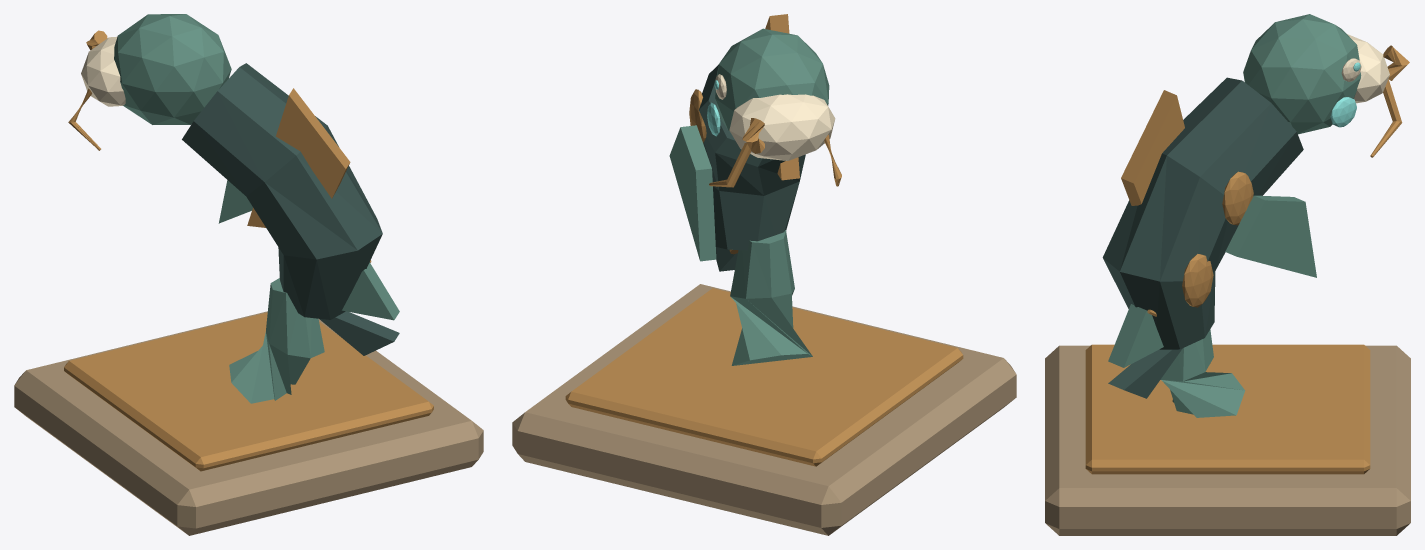
File: Tower_StormCarpL1.fbx
The picture shows the model from 3 angles, left to right: view 1: azimuth 30°, elevation 25°; view 2: azimuth 150°, elevation 25°; view 3: azimuth 270°, elevation 25°; orthographic projection. The views are drawn at different scales.
Parts seen in each view (by area): view 1: Tower_StormCarpL1; view 2: Tower_StormCarpL1; view 3: Tower_StormCarpL1.
Part boxes in pixels (x1=…): Tower_StormCarpL1: x1=14, y1=14, x2=483, y2=535; Tower_StormCarpL1: x1=512, y1=14, x2=1016, y2=535; Tower_StormCarpL1: x1=1045, y1=14, x2=1410, y2=535.
Size of the model in its own units: 0.9 by 1.15 by 0.9.
